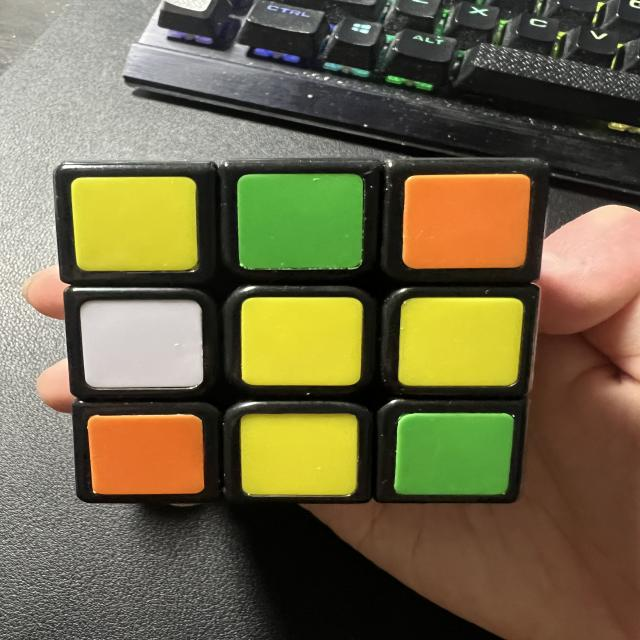center: (244, 297, 361, 384)
green: (238, 174, 363, 271), (396, 414, 511, 496)
orange: (405, 175, 528, 267), (87, 415, 203, 493)
white: (83, 299, 203, 388)
yellow: (72, 176, 198, 272), (402, 296, 521, 388), (243, 411, 357, 498)
